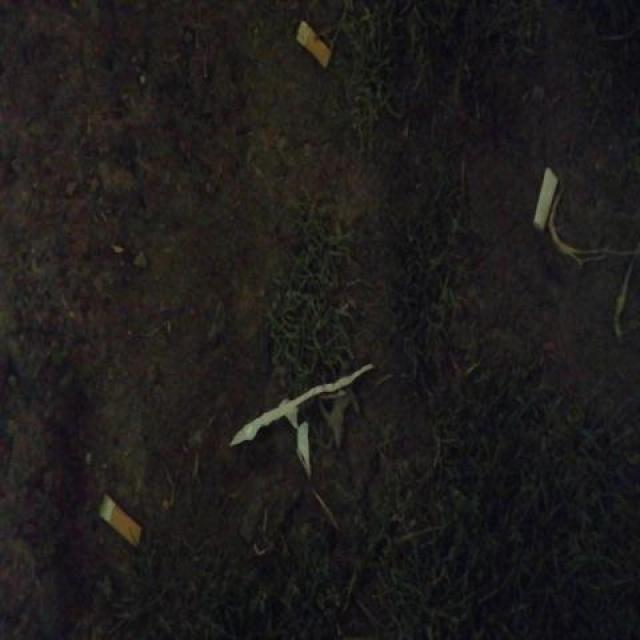non-organic waste: (94, 490, 145, 550), (294, 18, 334, 75), (530, 162, 558, 234)
